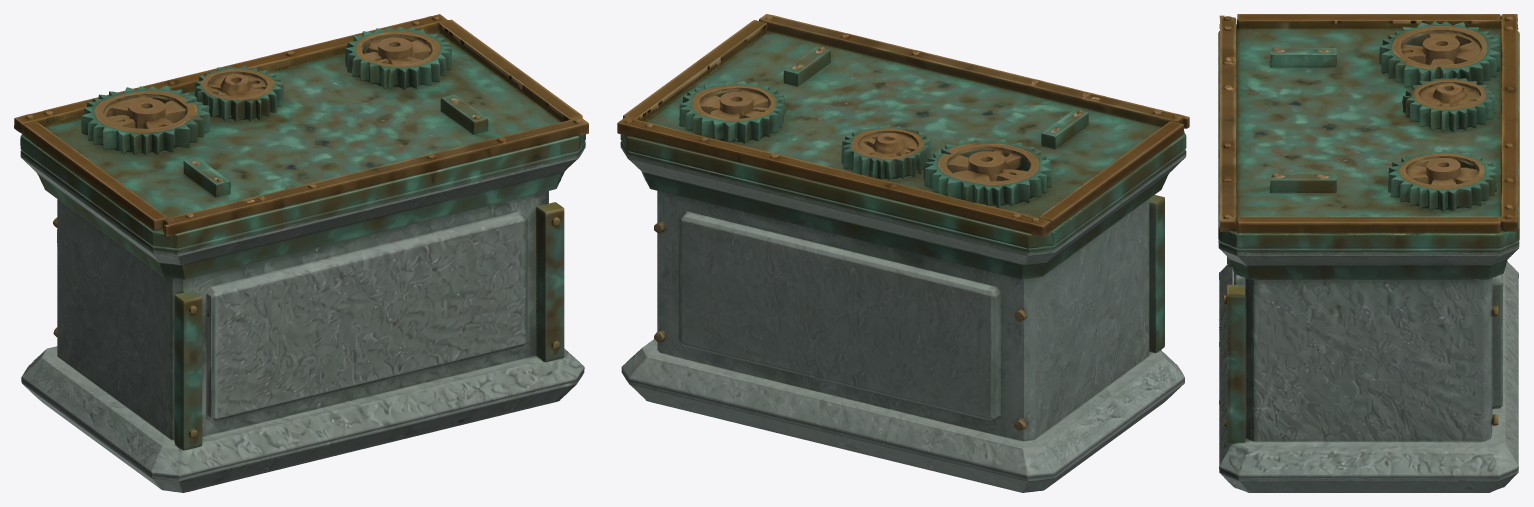
File: Body-Rodin.glb
3 views of the same model, side by side, from view 1: azimuth 30°, elevation 25°; view 2: azimuth 150°, elevation 25°; view 3: azimuth 270°, elevation 25° (orthographic).
Parts seen in each view (by area): view 1: model; view 2: model; view 3: model.
Part boxes in pixels (x1=…): model: x1=14, y1=14, x2=588, y2=492; model: x1=617, y1=14, x2=1189, y2=492; model: x1=1218, y1=14, x2=1519, y2=492.
Bounding box in the file's own units: 1.76 × 1.14 × 1.06.
1 material, 1 textured.
